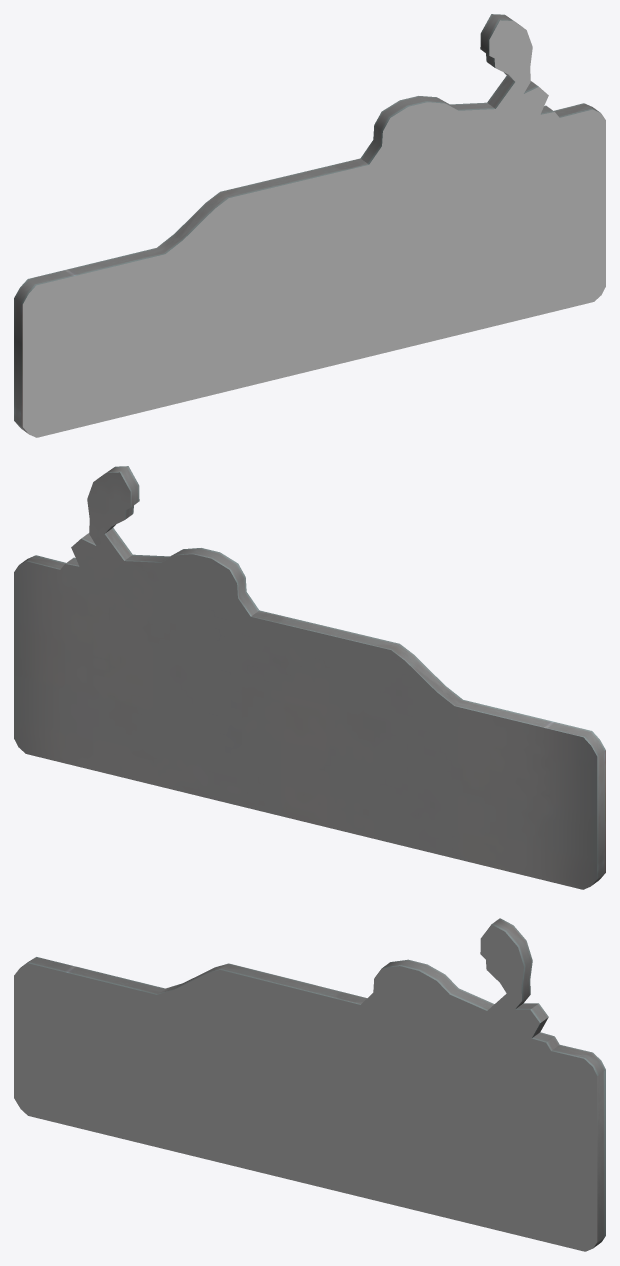
Rendered from pref_sm_city_billboardholo01_snow_lv3.fbx.
3 views of the same model, one above another, from view 1: azimuth 30°, elevation 25°; view 2: azimuth 150°, elevation 25°; view 3: azimuth 330°, elevation 25° (orthographic).
Visible parts, largest first — view 1: sm_city_billboardholo01_snow_lv3, sm_city_billboardholo01b_snow_lv3; view 2: sm_city_billboardholo01b_snow_lv3; view 3: sm_city_billboardholo01_snow_lv3, sm_city_billboardholo01b_snow_lv3.
Boxes of the visible parts, bbox=[...] form: sm_city_billboardholo01_snow_lv3: bbox=[22, 20, 605, 437]; sm_city_billboardholo01b_snow_lv3: bbox=[14, 14, 600, 433]; sm_city_billboardholo01b_snow_lv3: bbox=[14, 466, 605, 889]; sm_city_billboardholo01_snow_lv3: bbox=[14, 924, 597, 1251]; sm_city_billboardholo01b_snow_lv3: bbox=[22, 918, 605, 1248].
Size of the model in its own units: 11.76 by 5.87 by 0.3041.
